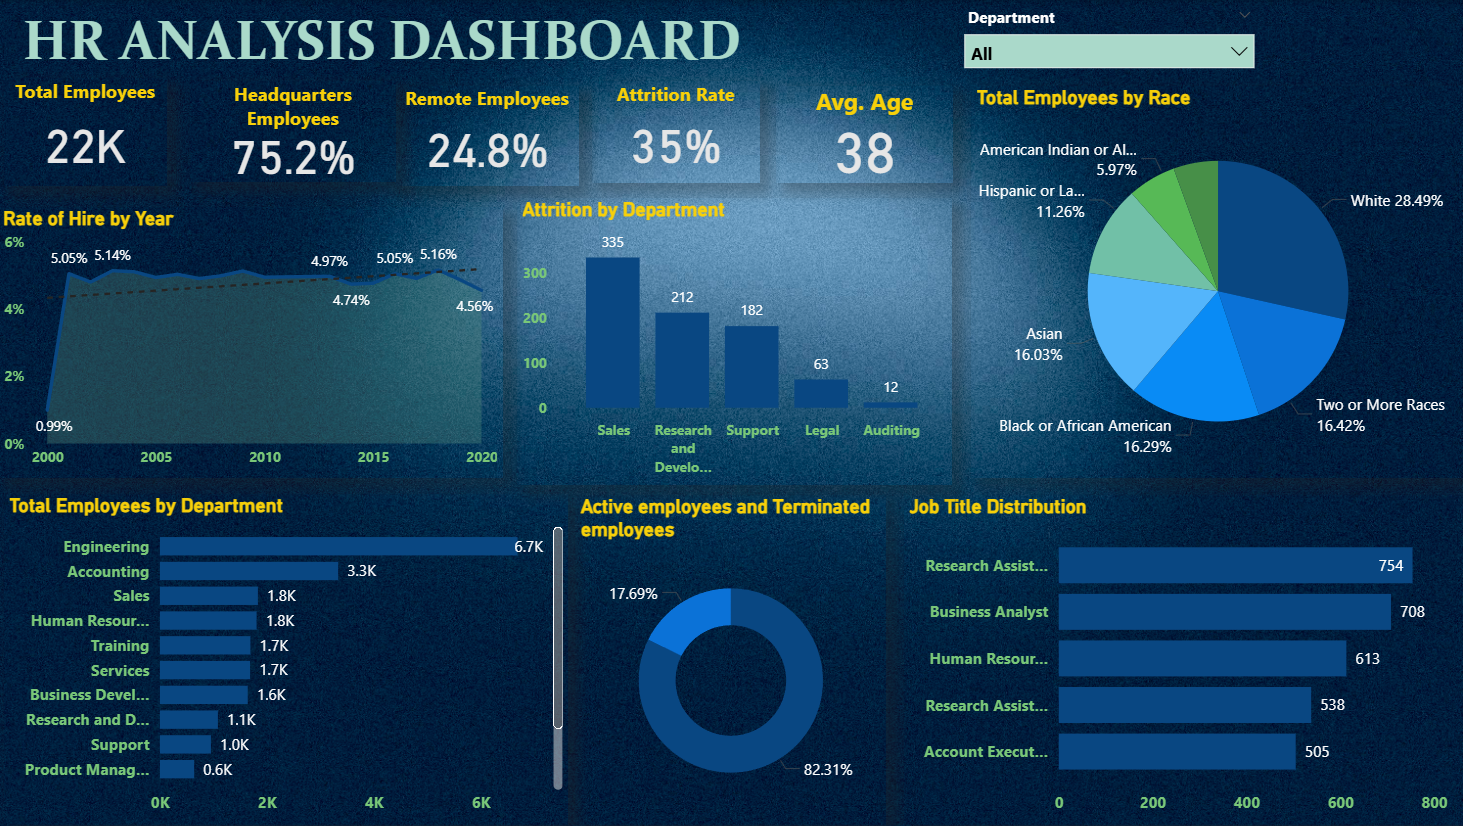

Layout of this report page (visuals, bound fields, positions):
{"tool":"powerbi","page":{"name":"Page 1","canvas":[1280,720],"ordinal":0},"visuals":[{"type":"card","title":"Total Employees","fields":{"Values":["HR 2.total no of employee"]},"box":[6.1,68.1,142.3,93.9],"z":0},{"type":"card","title":" Headquarters Employees","fields":{"Values":["HR 2.Percent of employees working in HQ"]},"box":[168.1,71.2,180.2,87.8],"z":1000},{"type":"card","title":"Remote Employees","fields":{"Values":["HR 2.Percent of employees working in Remote"]},"box":[348.3,74.2,160.5,87.8],"z":2000},{"type":"card","title":"Avg. Age","fields":{"Values":["Avg(HR 2.Age)"]},"box":[679.9,74.2,154.4,84.8],"z":3000},{"type":"pieChart","title":"Total Employees by Race","fields":{"Category":["HR 2.race"],"Y":["HR 2.total no of employee"]},"box":[849.5,74.2,430,342.2],"z":4000},{"type":"clusteredBarChart","title":"Total Employees by Department","fields":{"Category":["Employee.department"],"Y":["Employee.total no of employee"]},"box":[6.1,430,492.1,289.2],"z":5000},{"type":"lineChart","title":"Rate of Hire by Year","fields":{"Category":["HR 2.hire_date.Variation.Date Hierarchy.Year"],"Y":["CountNonNull(HR 2.id)"]},"box":[1.5,180.2,440.6,236.2],"z":6000},{"type":"textbox","box":[17.7,0,725.9,68.7],"z":7000},{"type":"slicer","fields":{"Values":["HR 2.department"]},"box":[834.3,0,272.6,65.1],"z":8000},{"type":"card","title":"Attrition Rate","fields":{"Values":["Employee.Attrition Rate %"]},"box":[519.4,71.2,146.9,89.3],"z":9000},{"type":"barChart","title":"Job Title Distribution","fields":{"Category":["Employee.jobtitle"],"Y":["Employee.total no of employee"]},"box":[790.4,431.5,489.1,287.7],"z":10000},{"type":"columnChart","title":"Attrition by Department","fields":{"Category":["Employee.department"],"Y":["Employee.total terminated employees"]},"box":[454.3,172.6,380.1,249.8],"z":11000},{"type":"donutChart","title":"Active employees and Terminated employees","fields":{"Y":["Employee.total active employees","Employee.total terminated employees"]},"box":[504.2,431.5,271,287.7],"z":11001}]}

Visuals, with their boxes in screenshot pixels (x1, y1, x2, y2), scaled from the page's 1280x720 canvas onto the 1463x826 screenshot:
"Total Employees" card: x1=7, y1=78, x2=170, y2=186
" Headquarters Employees" card: x1=192, y1=82, x2=398, y2=182
"Remote Employees" card: x1=398, y1=85, x2=582, y2=186
"Avg. Age" card: x1=777, y1=85, x2=954, y2=182
"Total Employees by Race" pieChart: x1=971, y1=85, x2=1462, y2=478
"Total Employees by Department" clusteredBarChart: x1=7, y1=493, x2=569, y2=825
"Rate of Hire by Year" lineChart: x1=2, y1=207, x2=505, y2=478
textbox: x1=20, y1=0, x2=850, y2=79
slicer - HR 2.department: x1=954, y1=0, x2=1265, y2=75
"Attrition Rate" card: x1=594, y1=82, x2=762, y2=184
"Job Title Distribution" barChart: x1=903, y1=495, x2=1462, y2=825
"Attrition by Department" columnChart: x1=519, y1=198, x2=954, y2=485
"Active employees and Terminated employees" donutChart: x1=576, y1=495, x2=886, y2=825
